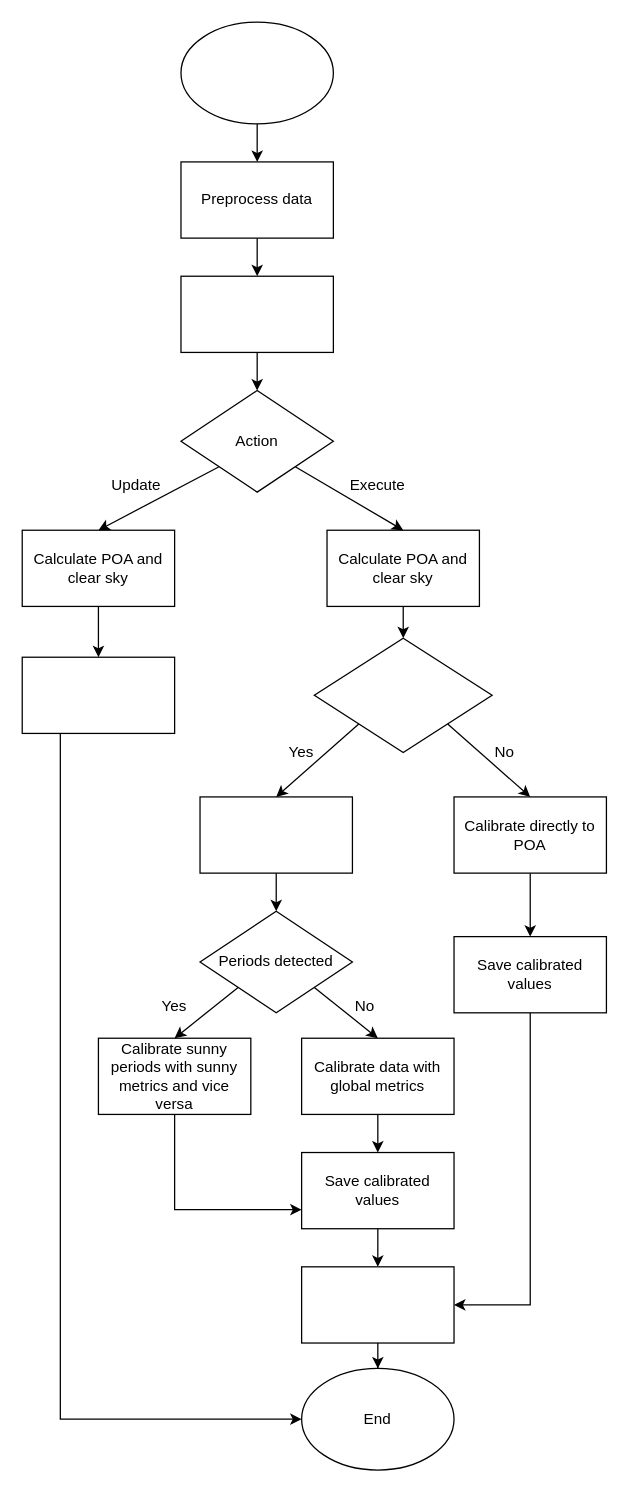
Image size: 629x1492. Some labels were removed from this diagram. Each missing label, with the centre of its shape:
"Calculate and save calibration metrics" goes at (98,694).
"Calibrate to reference" goes at (275,834).
"Initialize classes" goes at (256,313).
"Plot graphs" goes at (377,1304).
"Sensor reference provided" goes at (402,694).
"START" goes at (256,72).
